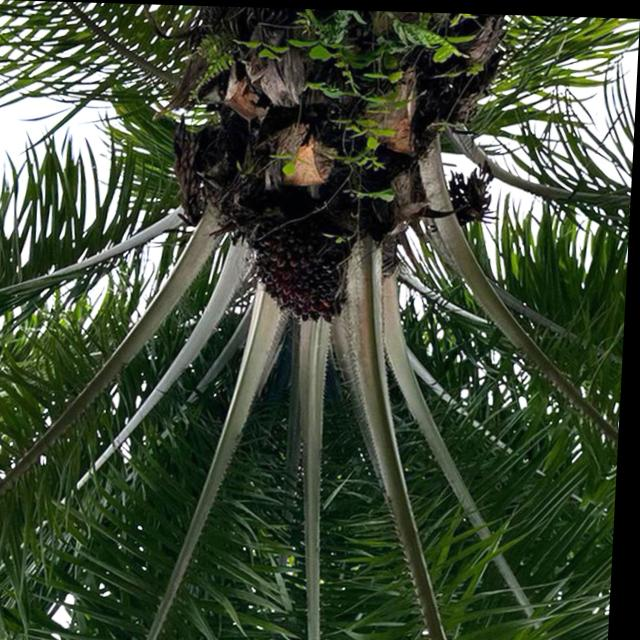ripe: (250, 209, 368, 340)
